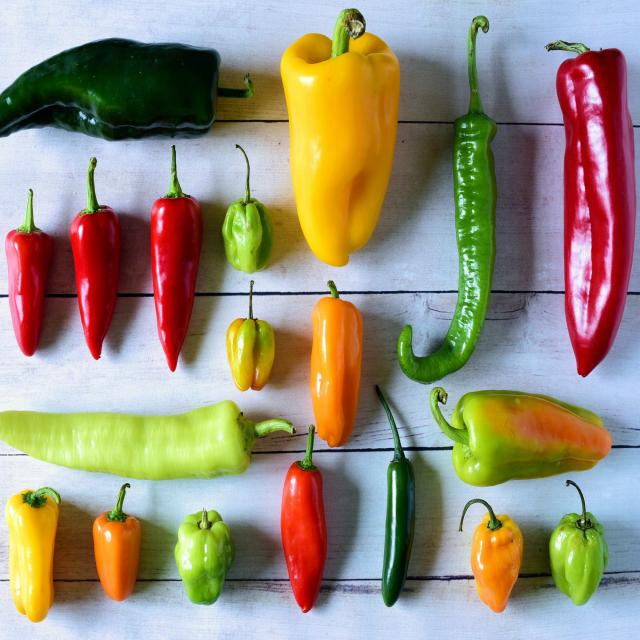Chilli Pepper: (398, 15, 502, 390), (537, 34, 640, 381), (282, 0, 411, 275), (0, 36, 262, 155), (3, 392, 294, 487), (430, 380, 622, 495), (259, 399, 352, 636), (51, 143, 138, 363), (140, 124, 210, 390), (440, 475, 547, 640), (302, 264, 378, 463), (365, 388, 421, 614), (162, 486, 251, 623), (77, 465, 157, 612), (538, 472, 620, 612), (205, 286, 298, 395), (0, 177, 54, 356), (218, 130, 278, 284), (3, 480, 64, 623)
